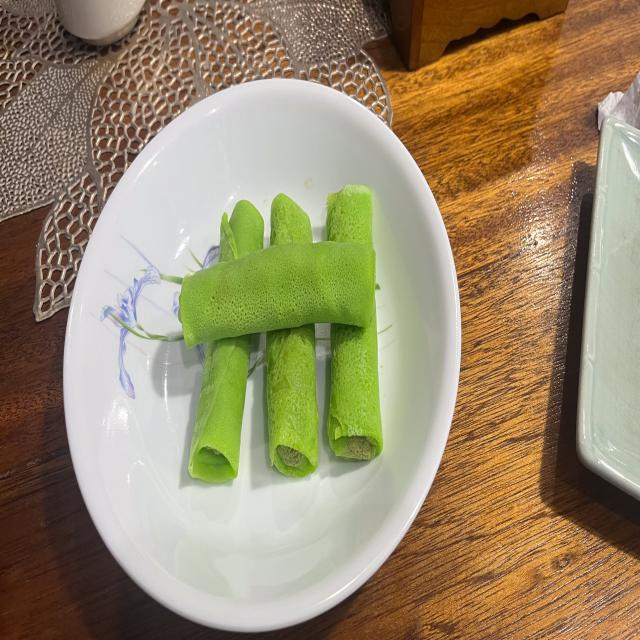Kuih-Ketayap: (180, 240, 375, 349), (189, 336, 251, 482), (328, 304, 382, 460), (266, 324, 319, 478), (326, 184, 372, 249), (219, 200, 264, 262), (270, 193, 312, 247), (270, 193, 312, 247)
